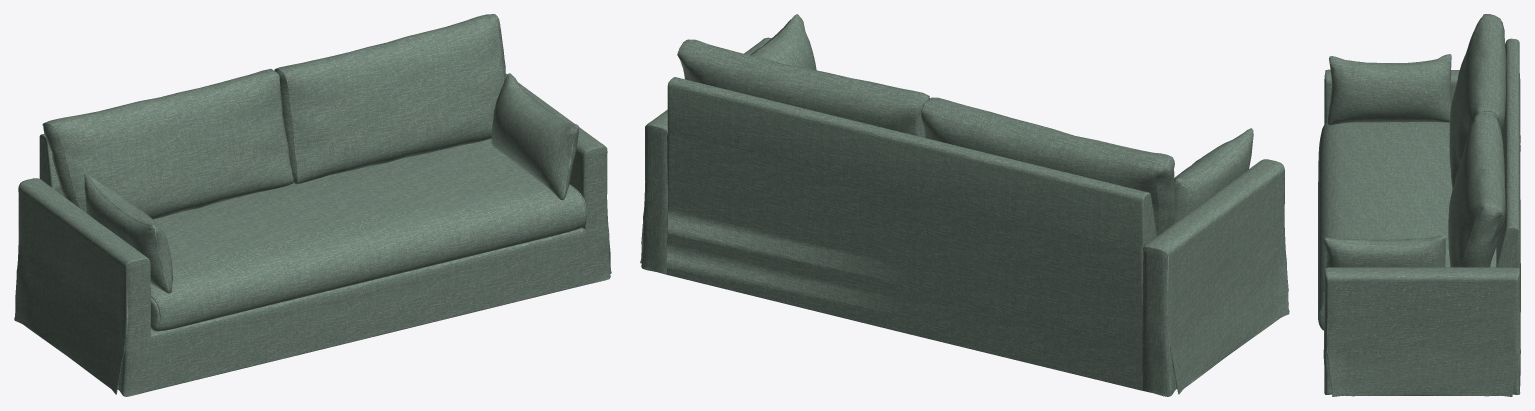
Rendered from hyltarp_sofa_3_osobowa_69514931.glb.
3 views of the same model, side by side, from view 1: azimuth 30°, elevation 25°; view 2: azimuth 150°, elevation 25°; view 3: azimuth 270°, elevation 25° (orthographic). The views are drawn at different scales.
Visible parts, largest first — view 1: hyltarp_sofa_3_osobowa_69514931; view 2: hyltarp_sofa_3_osobowa_69514931; view 3: hyltarp_sofa_3_osobowa_69514931.
Part boxes in pixels (x1,y1,x2,y2): hyltarp_sofa_3_osobowa_69514931: (14,14,611,396); hyltarp_sofa_3_osobowa_69514931: (640,14,1289,396); hyltarp_sofa_3_osobowa_69514931: (1318,14,1520,396).
Size of the model in its own units: 2.32 by 0.9101 by 0.9305.
1 material, 1 textured.
